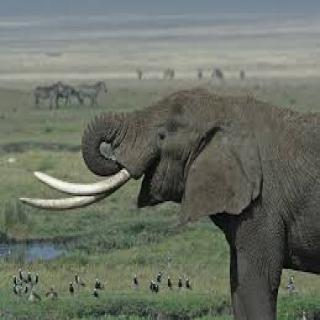Elephant: (21, 82, 320, 318)
